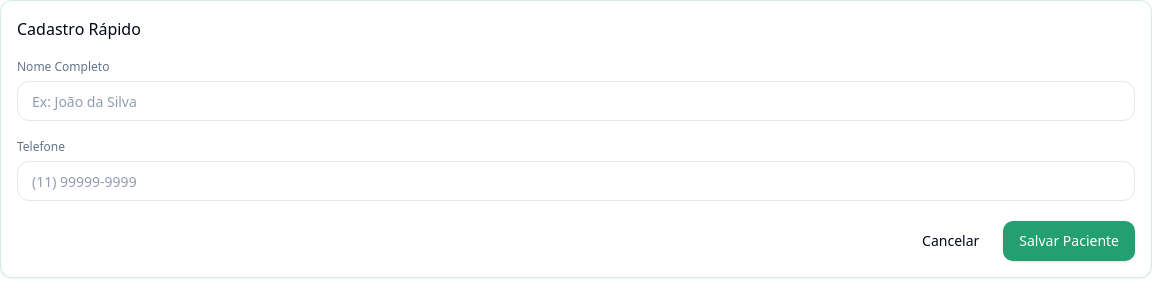
it: QuickPatientForm aplica máscara em tempo real ao digitar telefone e não renderiza campo de CPF
// Digitando telefone celular sem formatação
Type "22999021889" into the field with placeholder "(11) 99999-9999" at (576, 181), box [17,161,1135,201]
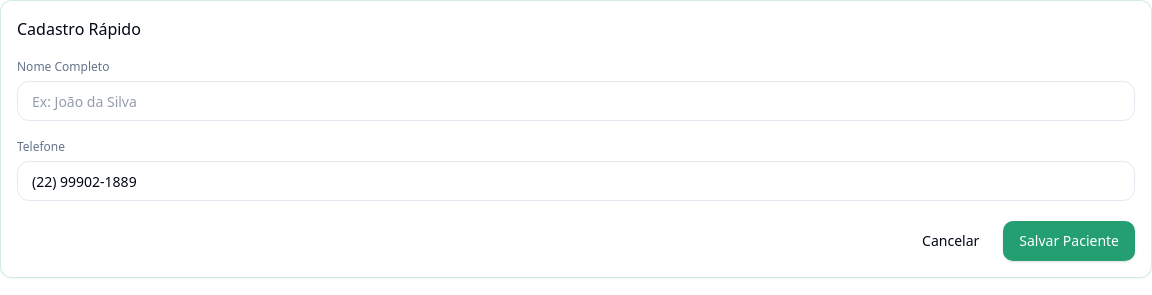
Expected: the field with placeholder "(11) 99999-9999" holds "(22) 99902-1889"
// Digitando telefone fixo (10 dígitos)
Replace the text in the field with placeholder "(11) 99999-9999" with "2233334444" at (576, 181), box [17,161,1135,201]
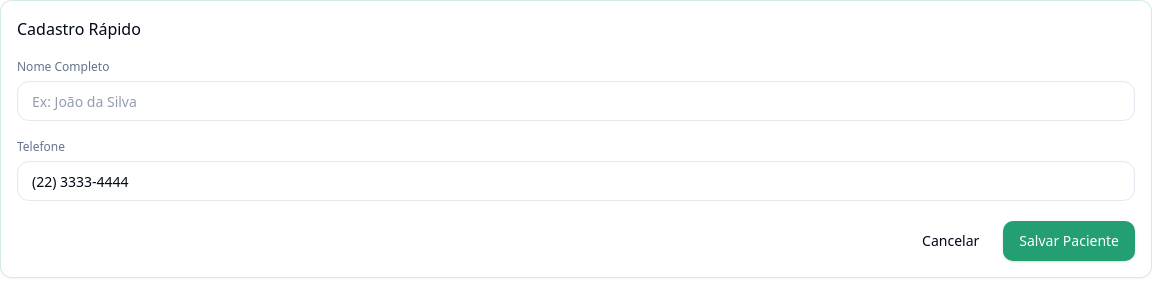
Expected: the field with placeholder "(11) 99999-9999" holds "(22) 3333-4444", [17,161,1135,201]
